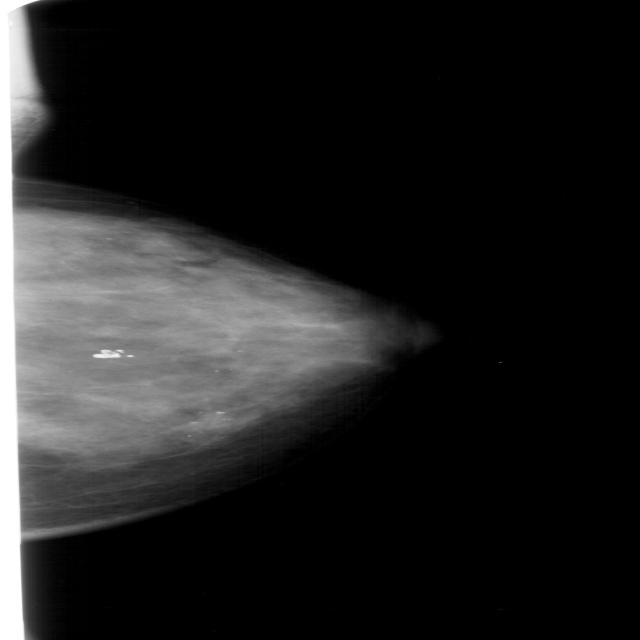normal: (0, 164, 419, 566)
